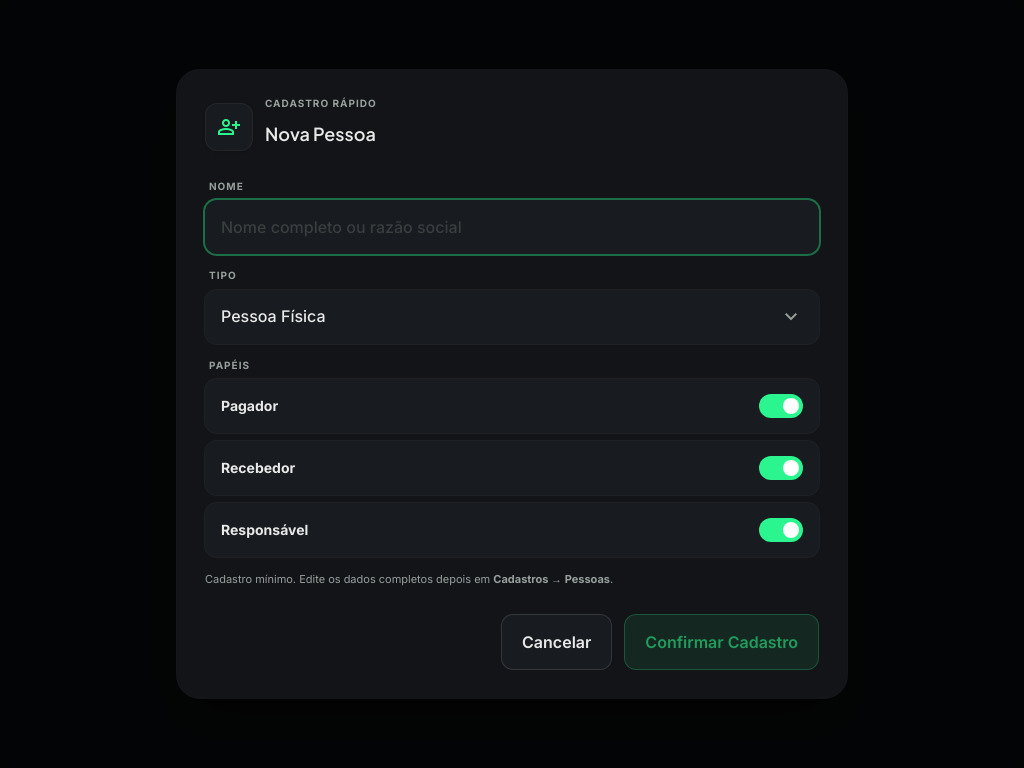
it: quick add modals › shows duplicate warning when pessoa with same name exists
The image size is (1024, 768).
Type "google" into the field with placeholder "Nome completo ou razão social".
click(512, 227); type("google")  # box [205,200,819,254]
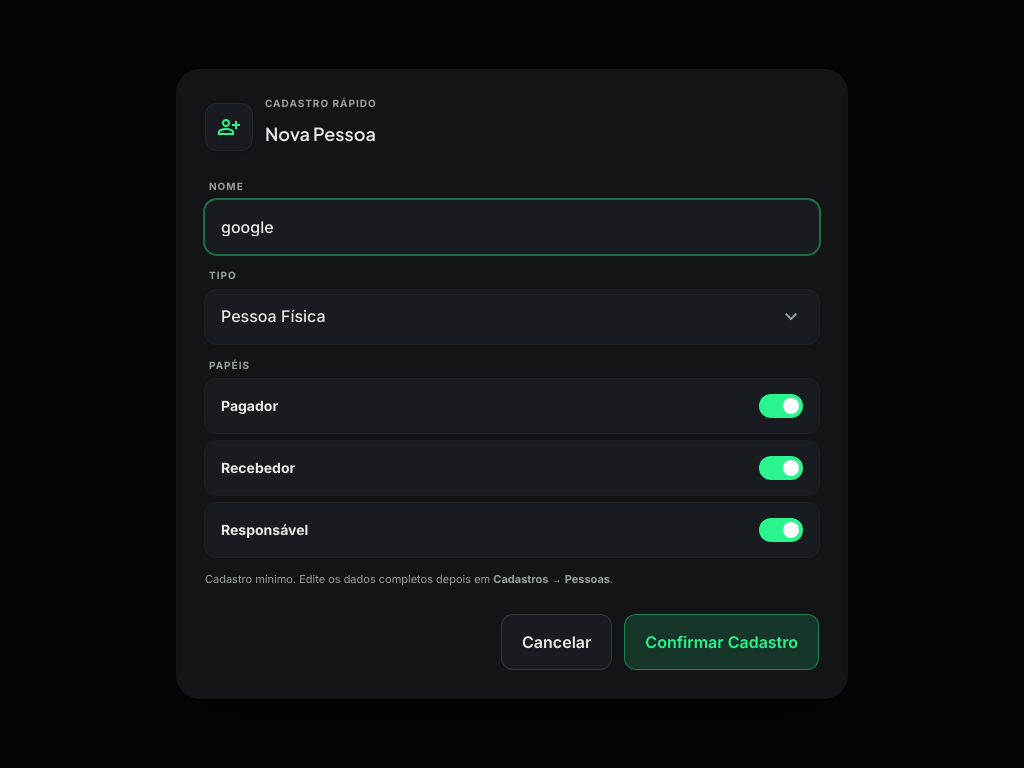
Click the button "Confirmar Cadastro".
click(722, 642)  # box [624,614,819,670]
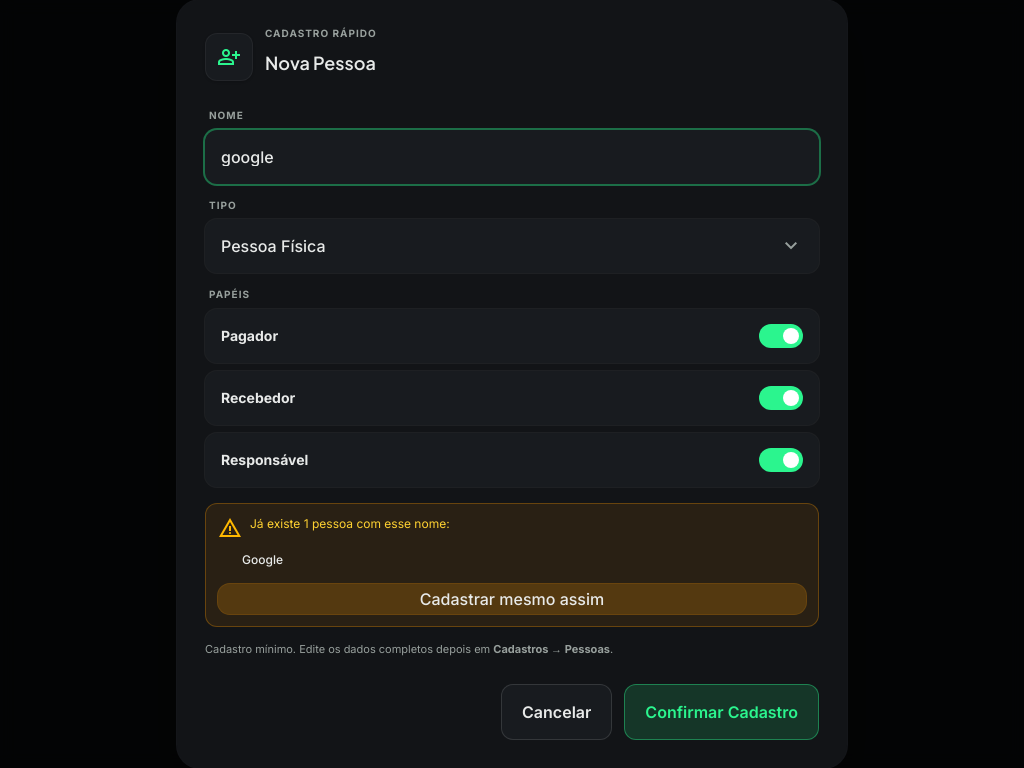
Expected: the text "Já existe 1 pessoa com esse nome:" is shown, [250,516,450,532]
Expected: the list item "Google" is shown, [242,552,283,567]
